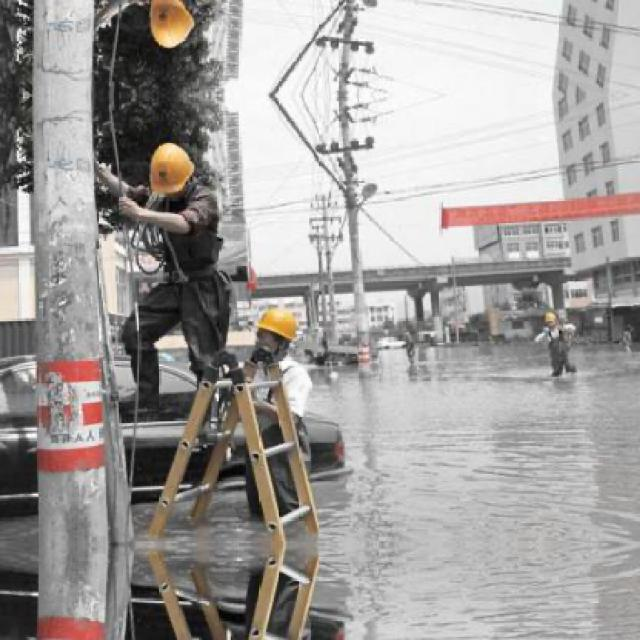helmet: (147, 138, 196, 198), (251, 303, 300, 360), (144, 0, 196, 51), (542, 308, 562, 328)
